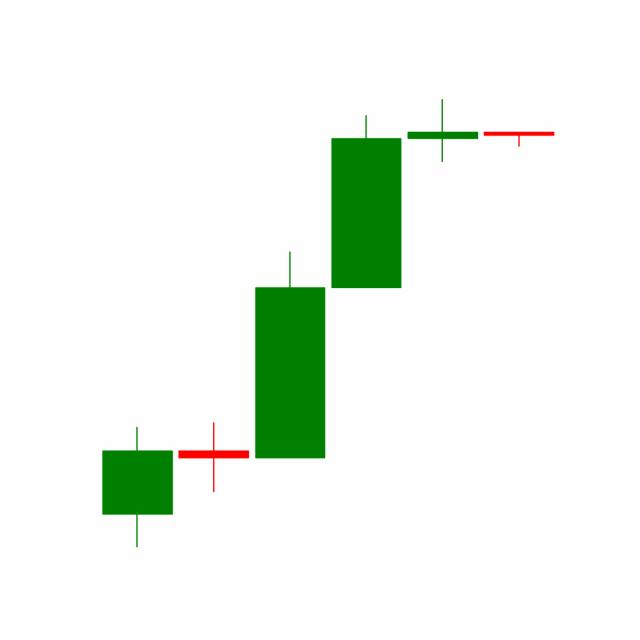Spinning Top: (403, 98, 481, 163)
